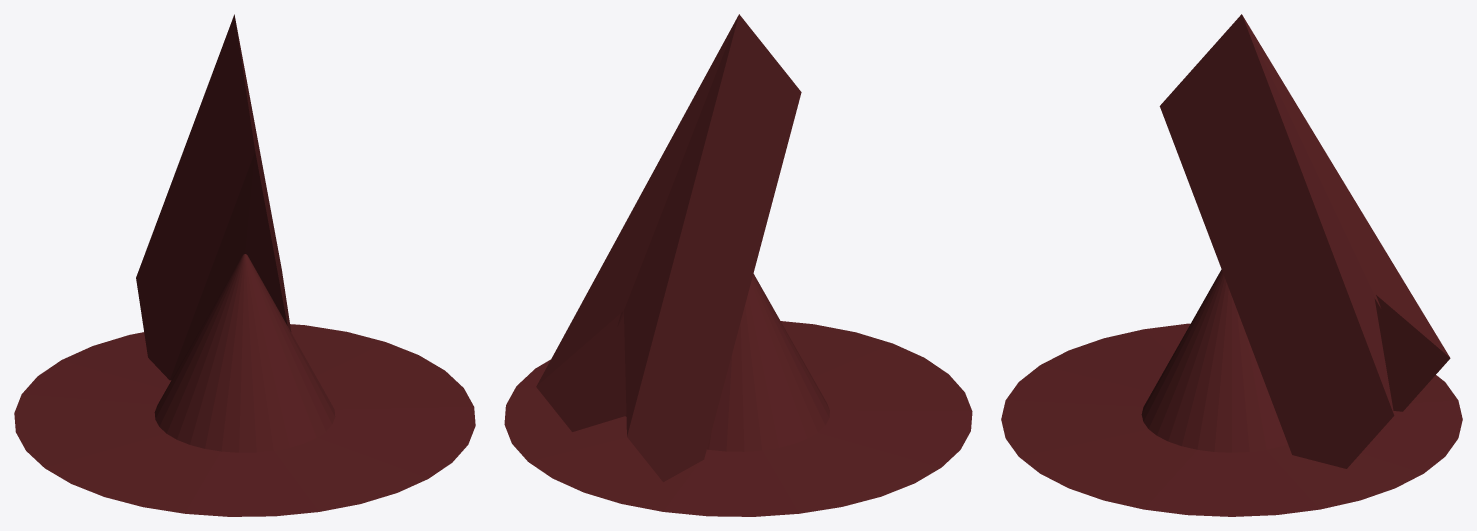
File: witch_hat.glb
3 renders of one model, left to right at view 1: azimuth 30°, elevation 25°; view 2: azimuth 150°, elevation 25°; view 3: azimuth 270°, elevation 25°, orthographic.
Visible parts, largest first — view 1: Cone; view 2: Cone; view 3: Cone.
Boxes of the visible parts, left/top/right/bottom form: Cone: left=14, top=14, right=475, bottom=516; Cone: left=504, top=14, right=972, bottom=516; Cone: left=1001, top=14, right=1462, bottom=516.
Bounding box in the file's own units: 5.11 × 5.42 × 5.11.
